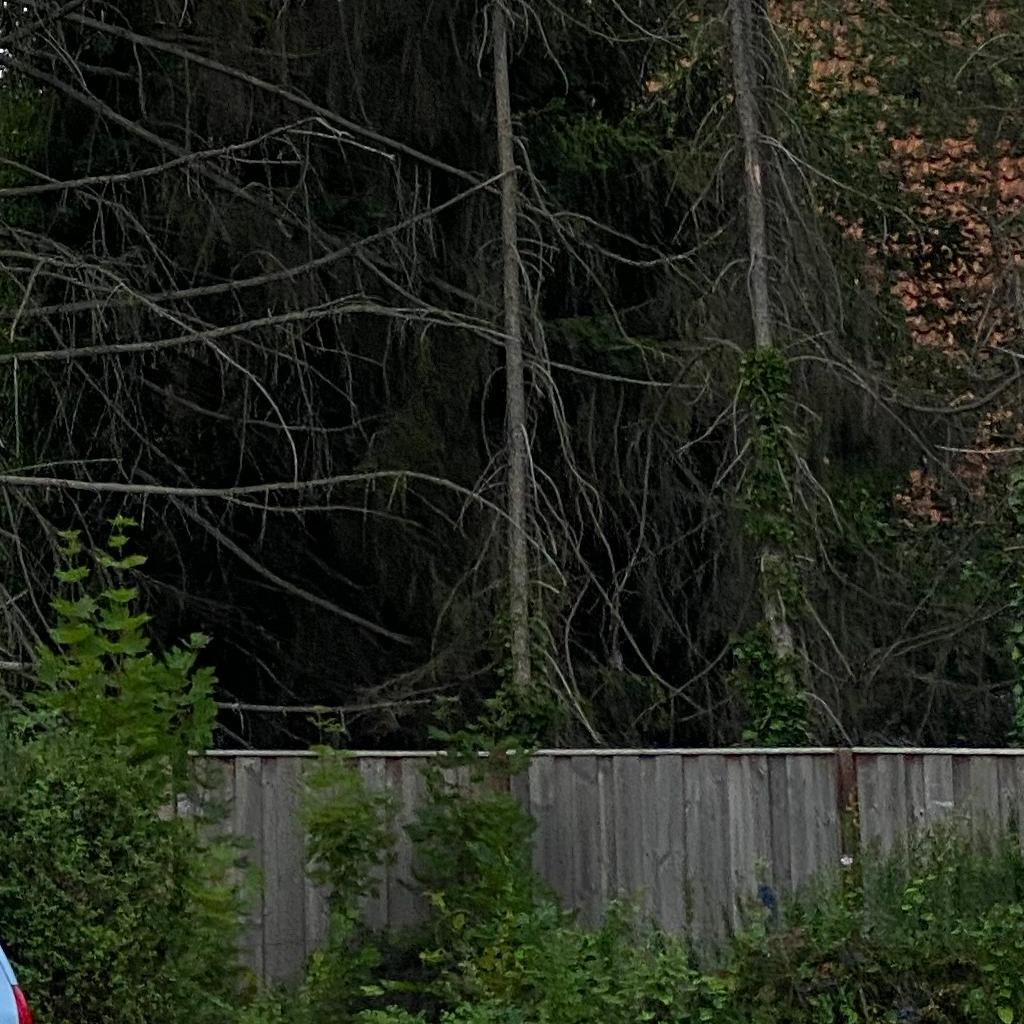tree: (1, 1, 525, 741), (353, 1, 706, 753), (661, 1, 964, 752), (817, 1, 1023, 733)
